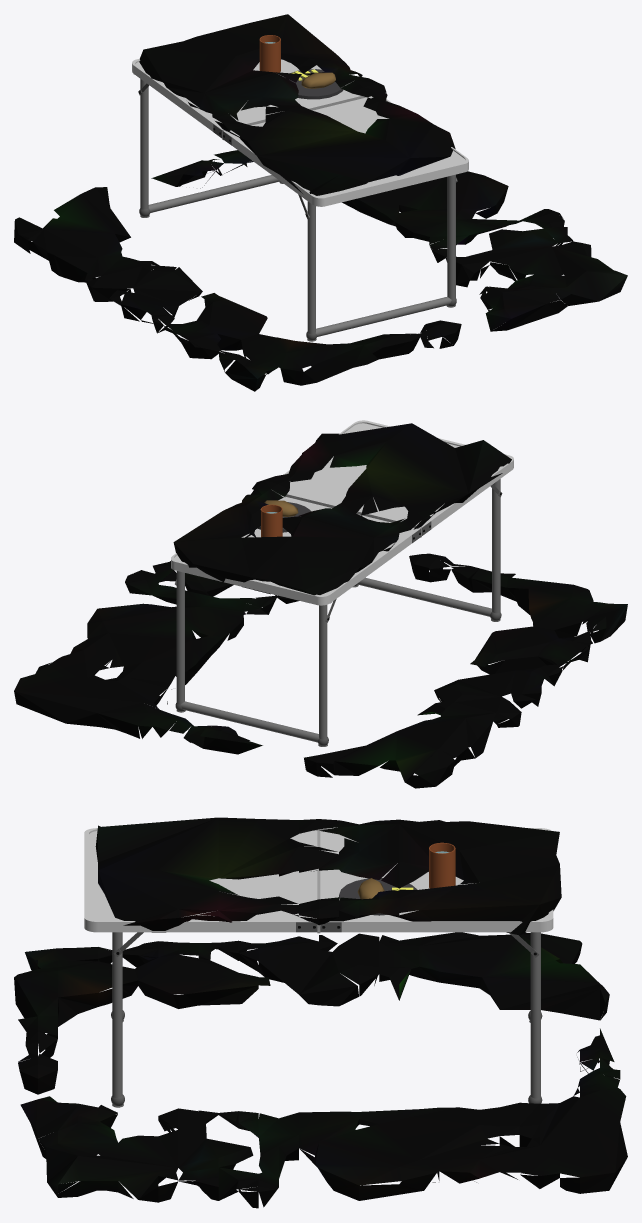
Rendered from FoldOutTable-Sn2.fbx.
3 renders of one model, top to bottom at view 1: azimuth 30°, elevation 25°; view 2: azimuth 150°, elevation 25°; view 3: azimuth 270°, elevation 25°, orthographic. The views are drawn at different scales.
Parts seen in each view (by area): view 1: polySurface3, polySurface28; view 2: polySurface3, polySurface28; view 3: polySurface3, polySurface28.
Part boxes in pixels (<box>): polySurface3: <box>14,14,627,391</box>; polySurface28: <box>132,35,468,341</box>; polySurface3: <box>14,423,627,788</box>; polySurface28: <box>171,420,513,746</box>; polySurface3: <box>14,817,627,1208</box>; polySurface28: <box>84,828,553,1107</box>.
Size of the model in its own units: 15.25 by 6.54 by 15.29.
